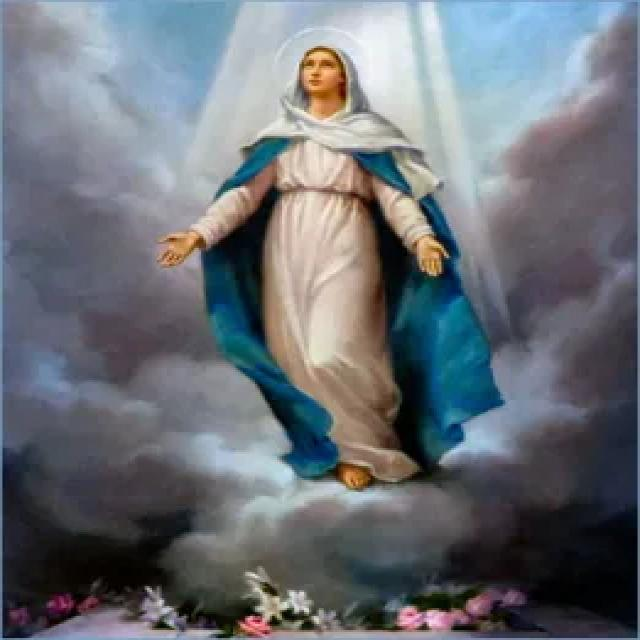mother of god: (147, 37, 526, 490)
